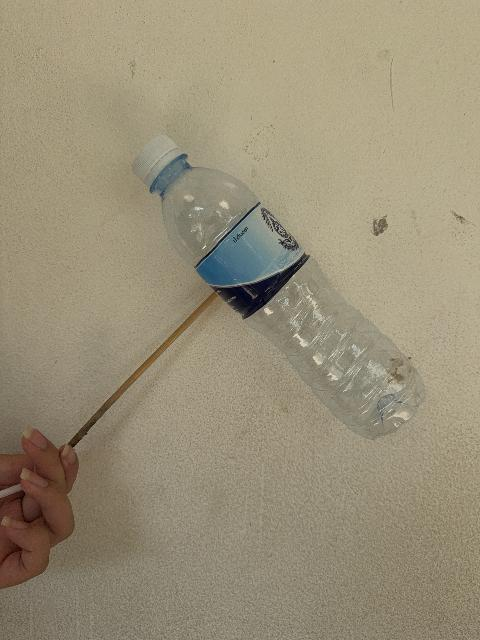bottle: (133, 136, 424, 438)
